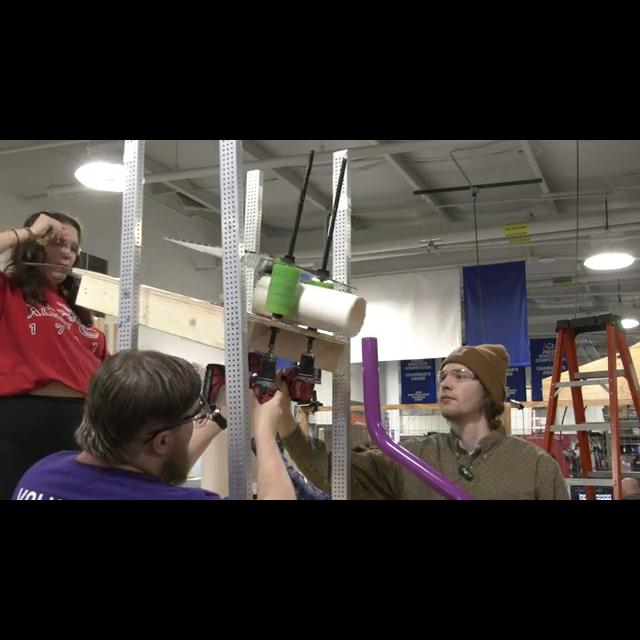CORAL: (251, 261, 367, 337)
